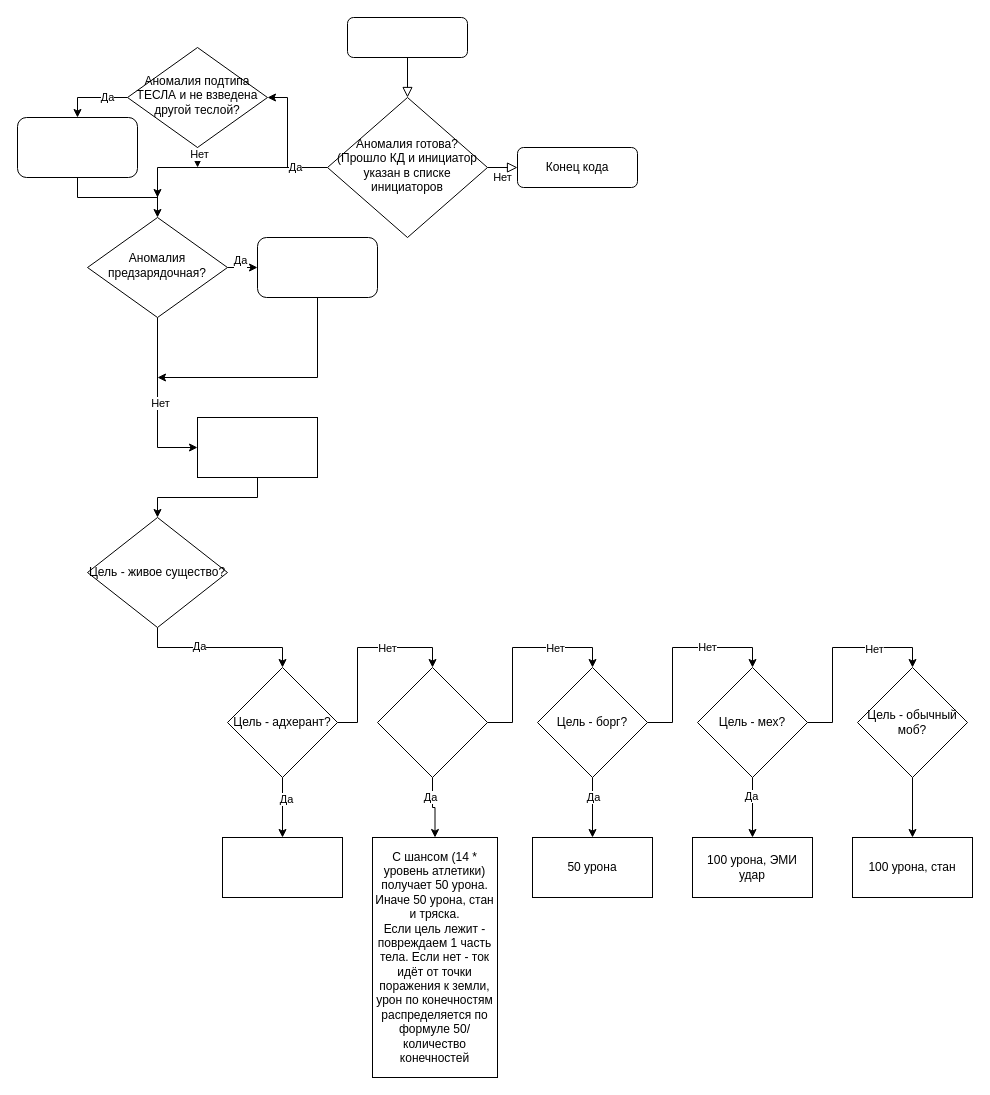
This 990x1095 diagram has some shape labels left out. The box of each missing label's shape, as (x1, y1, x2, y2) in pixels:
Взвести все теслы в радиусе 3 тайтлов от себя: (16, 116, 138, 178)
ДЛЯ ВСЕХ ОБЪКТОВ В ЗОНЕ ПОРАЖЕНИЯ(effect range): (196, 416, 318, 478)
Пересечение с аномалией: (346, 16, 468, 58)
Подождать время, равное cooldown(КД): (256, 236, 378, 298)
полностью зарядить адхеранта: (222, 836, 342, 898)
Цель - человек?: (376, 666, 488, 778)
